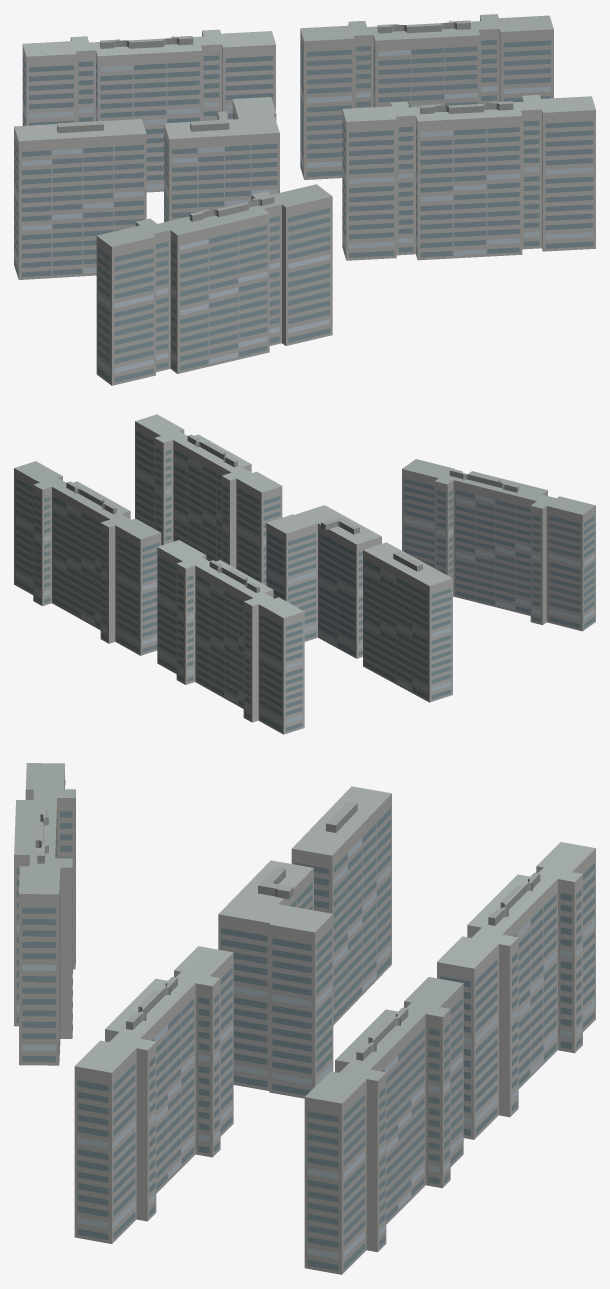
Rendered from apt-a13985908.glb.
The picture shows the model from 3 angles, top to bottom: view 1: azimuth 30°, elevation 25°; view 2: azimuth 150°, elevation 25°; view 3: azimuth 270°, elevation 25°; orthographic projection. The views are drawn at different scales.
Visible parts, largest first — view 1: apt-a13985908; view 2: apt-a13985908; view 3: apt-a13985908.
Boxes of the visible parts, box(x1,y1,x2,y2) form: apt-a13985908: box(14, 14, 595, 385); apt-a13985908: box(14, 414, 595, 734); apt-a13985908: box(14, 763, 595, 1274).
Size of the model in its own units: 195 by 47.81 by 141.
